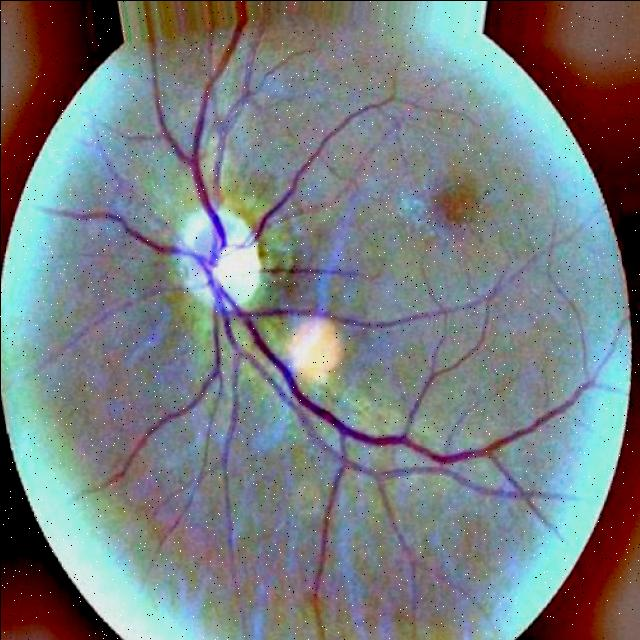Macula: (426, 177, 491, 233)
Nerves: (47, 60, 612, 463)
Optic Disk: (172, 209, 263, 312)
